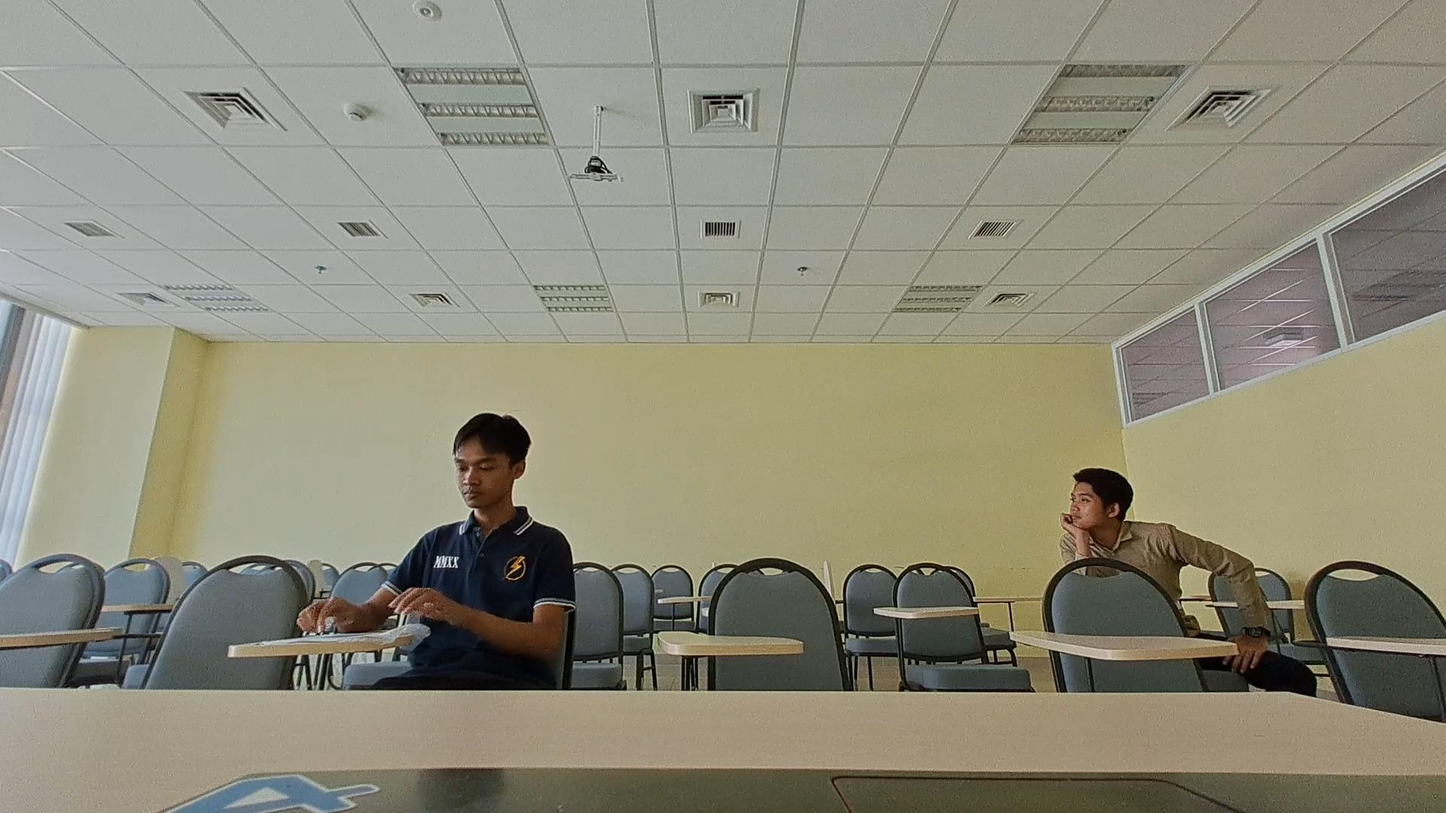study: (301, 408, 574, 694), (1056, 465, 1216, 651)
